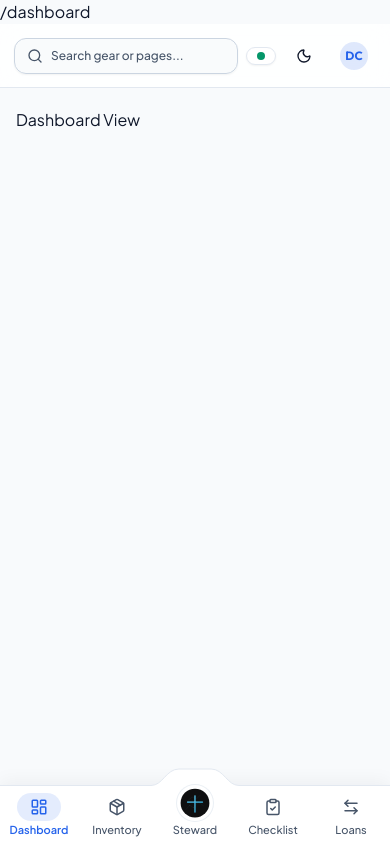
Test: AppShell › renders OfflineBanner with last synced timestamp when offline and MobileBottomNav with Guest vs Staff tabs
Later steps or results of the test are not shown.
Expected: the link "Dashboard" is shown, x1=10 y1=793 x2=68 y2=836
Expected: the link "Inventory" is shown, x1=92 y1=798 x2=142 y2=836
Click the button with aria-label "Open Steward menu": (195, 815) x1=156 y1=786 x2=234 y2=843
(page scrolled)
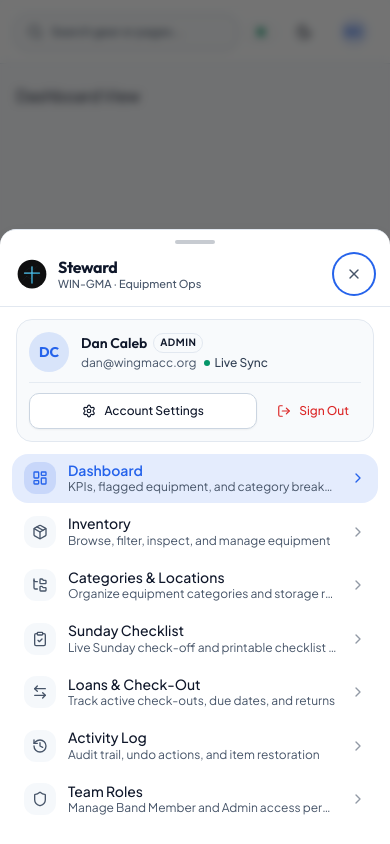
Expected: the text "Categories & Locations" is shown, x1=68 y1=568 x2=225 y2=586
Expected: the text "Activity Log" is shown, x1=68 y1=728 x2=147 y2=746
Expected: the text "Team Roles" is shown, x1=68 y1=782 x2=143 y2=800
